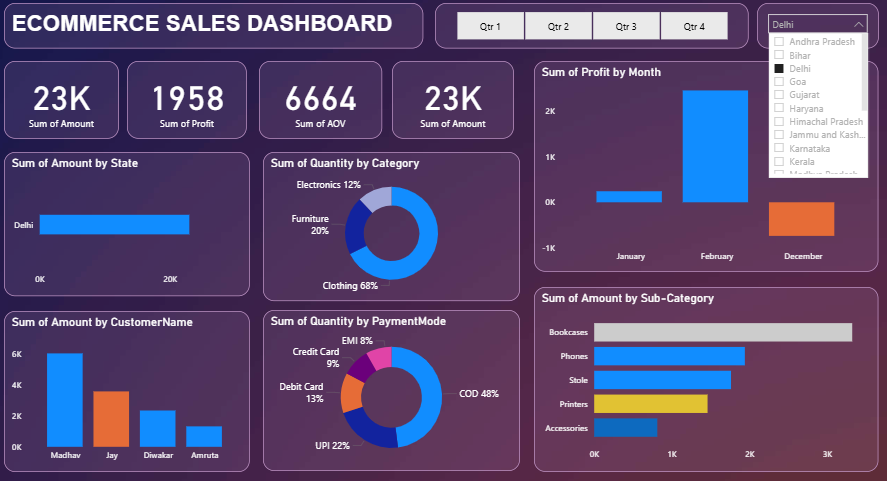

The page's visual inventory and layout, read from the dashboard file:
{"tool":"powerbi","page":{"name":"Page 1","canvas":[1280,720],"ordinal":0},"visuals":[{"type":"textbox","box":[10.1,8.6,599,64.8],"z":0},{"type":"columnChart","fields":{"Category":["Ordersdata.Order Date.Variation.Date Hierarchy.Month"],"Y":["OrderDetails.Profit"]},"box":[767.5,90.7,492.5,301],"z":1000},{"type":"barChart","fields":{"Category":["OrderDetails.Sub-Category"],"Y":["OrderDetails.Amount"]},"box":[767.5,414.7,492.5,263.5],"z":2000},{"type":"donutChart","fields":{"Category":["OrderDetails.Category"],"Y":["OrderDetails.Quantity"]},"box":[380.2,221.8,367.2,213.1],"z":3000},{"type":"donutChart","fields":{"Y":["OrderDetails.Quantity"],"Category":["OrderDetails.PaymentMode"]},"box":[380.2,447.8,367.2,230.4],"z":4000},{"type":"card","fields":{"Values":["OrderDetails.Amount"]},"box":[10.1,90.7,164.2,110.9],"z":5000},{"type":"card","fields":{"Values":["OrderDetails.Profit"]},"box":[185.8,90.7,171.4,110.9],"z":6000},{"type":"card","fields":{"Values":["OrderDetails.Amount"]},"box":[564.5,90.7,174.2,110.9],"z":7000},{"type":"card","fields":{"Values":["OrderDetails.AOV"]},"box":[374.4,90.7,175.7,110.9],"z":8000},{"type":"barChart","fields":{"Category":["Ordersdata.State"],"Y":["OrderDetails.Amount"]},"box":[10.1,221.8,351.4,205.9],"z":9000},{"type":"columnChart","fields":{"Category":["Ordersdata.CustomerName"],"Y":["OrderDetails.Amount"]},"box":[10,449,351,230],"z":10000},{"type":"slicer","fields":{"Values":["Ordersdata.Order Date.Variation.Date Hierarchy.Quarter"]},"box":[626.4,8.6,447.8,64.8],"z":11000},{"type":"slicer","fields":{"Values":["Ordersdata.State"]},"box":[1085.8,8.6,174.2,64.8],"z":12000}]}

Visuals, with their boxes on the page's 1280x720 design canvas (x1, y1, x2, y2). These are canvas units, not pixel positions in the 887x481 screenshot, which may show the page scaled, cropped or inside an application window:
textbox: bbox=[10, 9, 609, 73]
columnChart - Ordersdata.Order Date.Variation.Date Hierarchy.Month x OrderDetails.Profit: bbox=[768, 91, 1260, 392]
barChart - OrderDetails.Sub-Category x OrderDetails.Amount: bbox=[768, 415, 1260, 678]
donutChart - OrderDetails.Category x OrderDetails.Quantity: bbox=[380, 222, 747, 435]
donutChart - OrderDetails.Quantity x OrderDetails.PaymentMode: bbox=[380, 448, 747, 678]
card - OrderDetails.Amount: bbox=[10, 91, 174, 202]
card - OrderDetails.Profit: bbox=[186, 91, 357, 202]
card - OrderDetails.Amount: bbox=[564, 91, 739, 202]
card - OrderDetails.AOV: bbox=[374, 91, 550, 202]
barChart - Ordersdata.State x OrderDetails.Amount: bbox=[10, 222, 362, 428]
columnChart - Ordersdata.CustomerName x OrderDetails.Amount: bbox=[10, 449, 361, 679]
slicer - Ordersdata.Order Date.Variation.Date Hierarchy.Quarter: bbox=[626, 9, 1074, 73]
slicer - Ordersdata.State: bbox=[1086, 9, 1260, 73]
